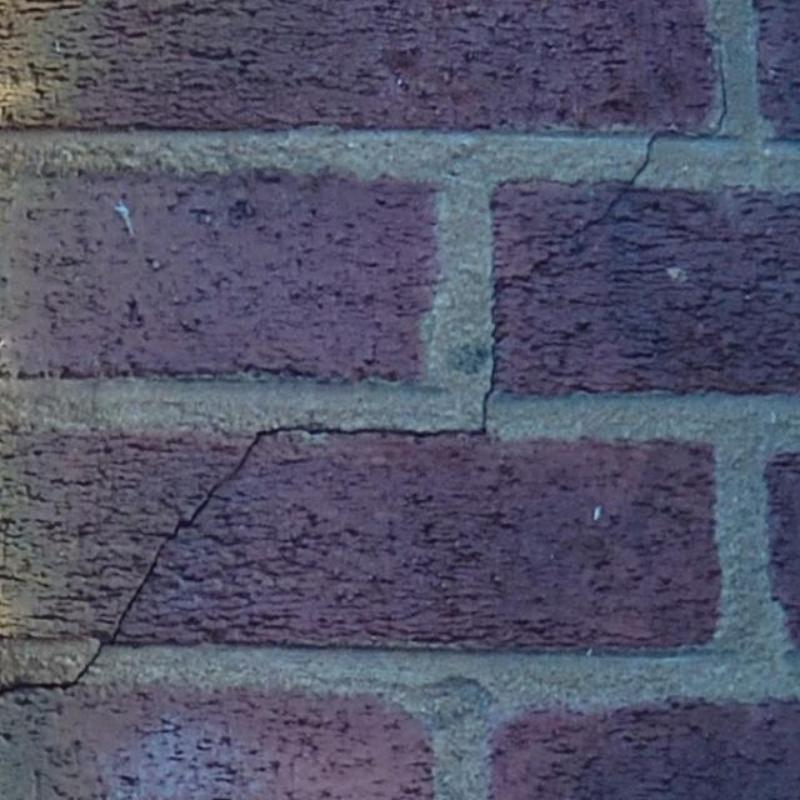crack: (0, 49, 729, 698)
